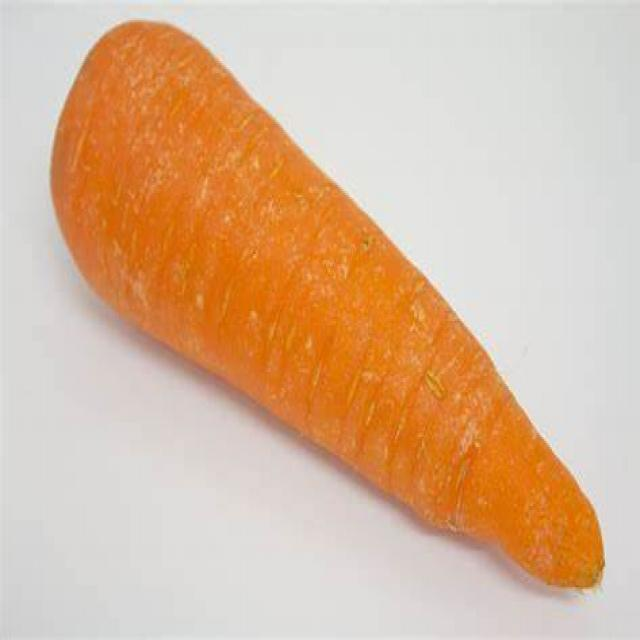Carrot: (60, 22, 609, 599)
